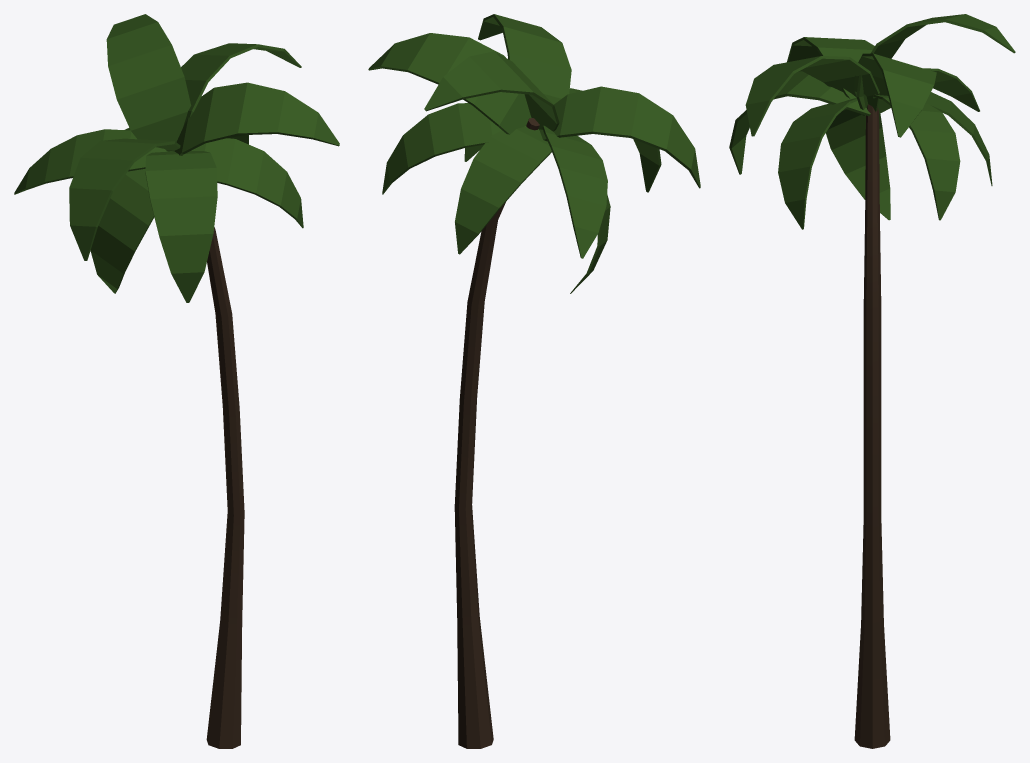
The model's file is SM_tree_palm_02.fbx.
3 renders of one model, left to right at view 1: azimuth 30°, elevation 25°; view 2: azimuth 150°, elevation 25°; view 3: azimuth 270°, elevation 25°, orthographic. The views are drawn at different scales.
Visible parts, largest first — view 1: Line008; view 2: Line008; view 3: Line008.
Boxes of the visible parts, left/top/right/bottom form: Line008: left=14, top=14, right=339, bottom=748; Line008: left=368, top=14, right=700, bottom=748; Line008: left=729, top=14, right=1015, bottom=748.
Bounding box in the file's own units: 127 × 115 × 313.
